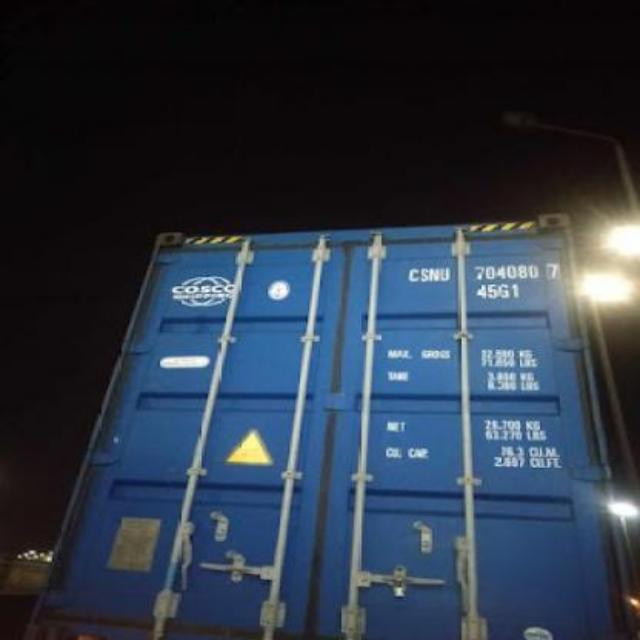0: (528, 263, 540, 279), (506, 263, 516, 281), (486, 268, 496, 282)
4: (496, 264, 506, 280)
7: (546, 263, 558, 279), (474, 266, 484, 280)
8: (518, 263, 528, 281)
C: (408, 268, 418, 284)
N: (430, 268, 438, 282)
S: (418, 268, 430, 282)
U: (440, 268, 450, 280)
